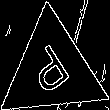P_SE: (25, 39, 79, 101)
